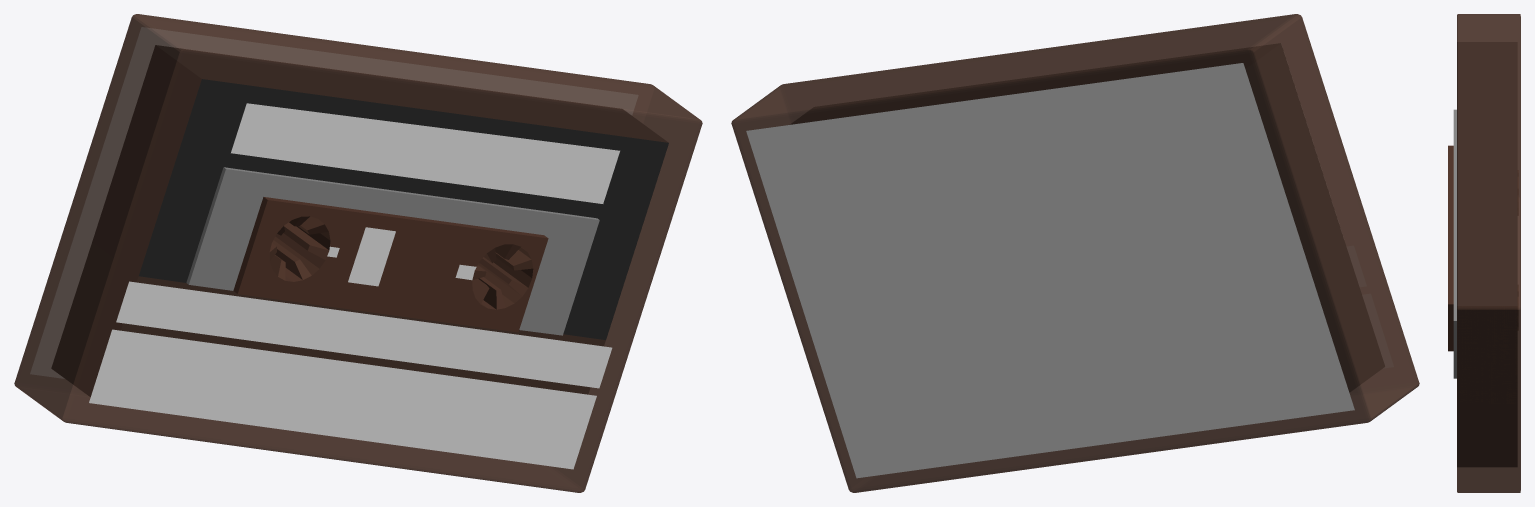
Rendered from Cassette_Brown.fbx.
The picture shows the model from 3 angles, left to right: view 1: azimuth 30°, elevation 25°; view 2: azimuth 150°, elevation 25°; view 3: azimuth 270°, elevation 25°; orthographic projection. The views are drawn at different scales.
Parts seen in each view (by area): view 1: Cube; view 2: Cube; view 3: Cube.
Boxes of the visible parts, left/top/right/bottom form: Cube: left=14, top=14, right=702, bottom=492; Cube: left=731, top=14, right=1419, bottom=492; Cube: left=1448, top=14, right=1520, bottom=492.
Bounding box in the file's own units: 184 × 148 × 27.78.
